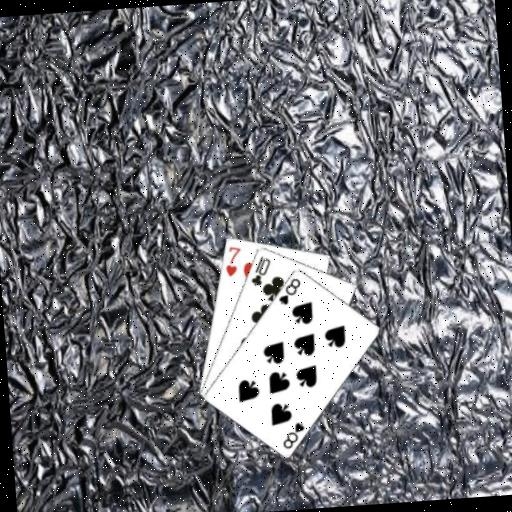10C: (246, 252, 273, 288)
7H: (221, 242, 244, 278)
8S: (274, 275, 304, 307), (278, 419, 307, 451)
